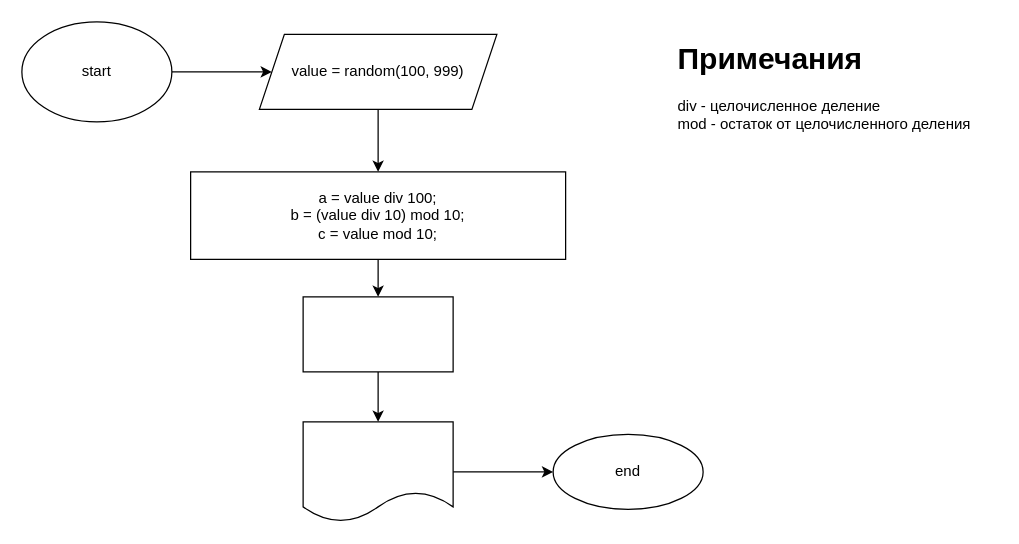
The diagram is 1019 pixels wide and 544 high, and some of its shapes have lost their labels. Each missing label, with the centre of its shape:
result = a*10 + c: point 377,334
value, result: point 377,471
